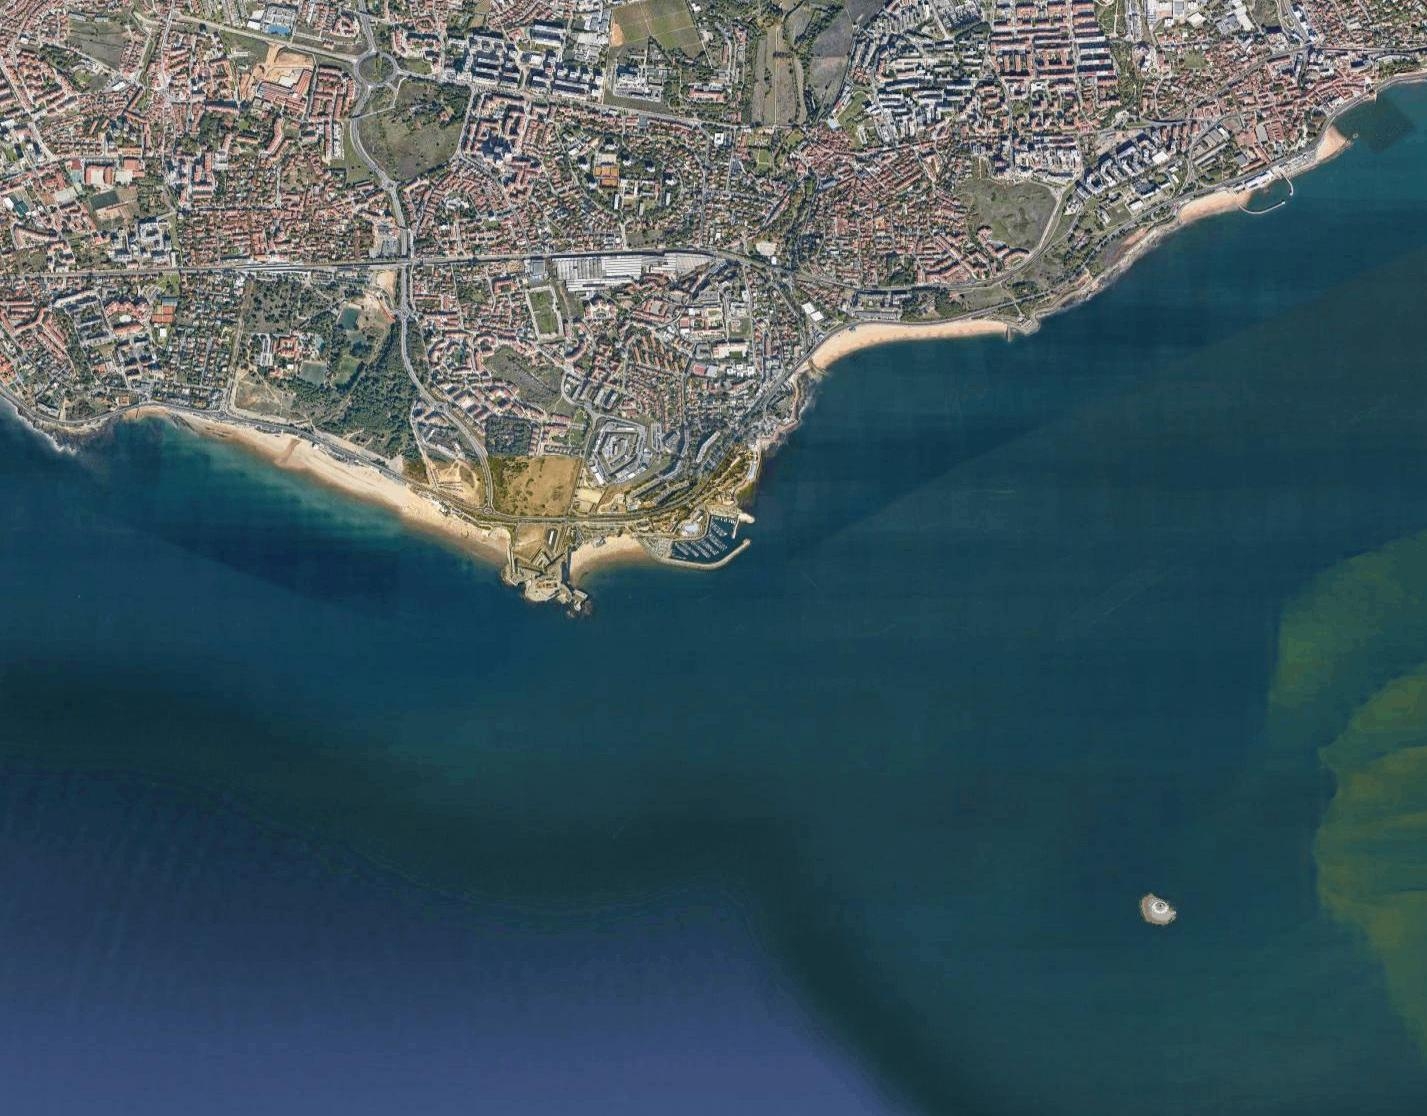harbor: (482, 493, 770, 639)
